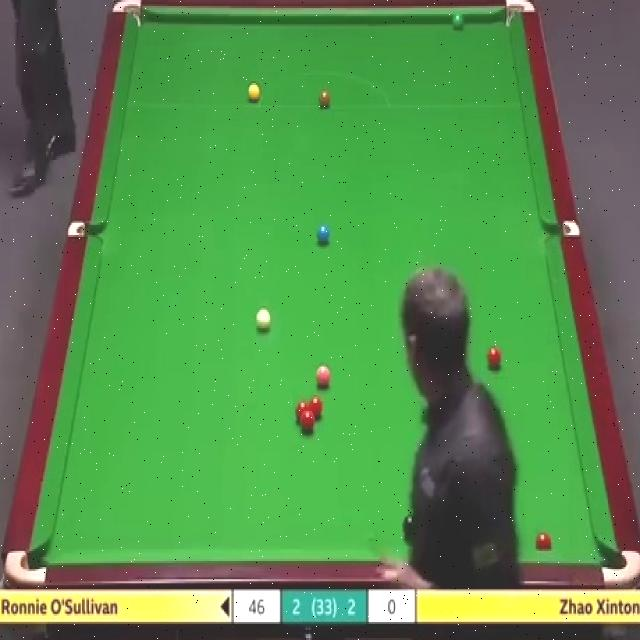black-ball: (403, 513, 418, 542)
blue-ball: (318, 225, 332, 247)
brown-ball: (318, 86, 331, 108)
green-ball: (450, 12, 464, 28)
pink-ball: (316, 364, 332, 391)
red-ball: (487, 345, 504, 370), (302, 408, 316, 437), (534, 531, 552, 550), (309, 393, 323, 416), (297, 398, 309, 421)
white-ball: (256, 308, 270, 332)
yellow-ball: (247, 84, 261, 103)
